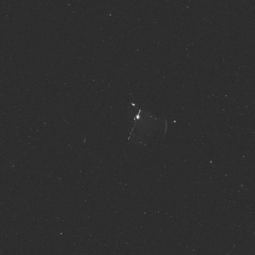proba_3_ocs: (114, 94, 174, 154)
